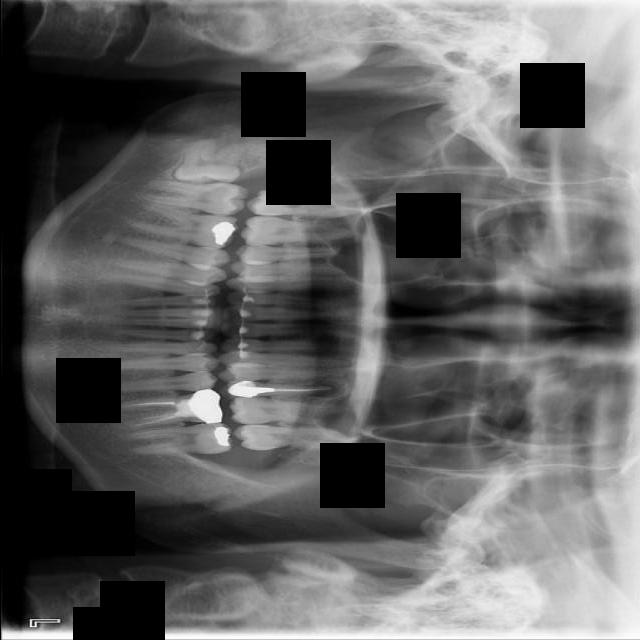52: (188, 212, 240, 252), (182, 419, 233, 459), (176, 388, 222, 426), (217, 377, 269, 401)
73: (114, 395, 186, 430), (263, 379, 331, 397), (56, 617, 60, 621)
BioHorizons Implant: (233, 423, 358, 452)
Blue Sky Bio Implant: (117, 421, 232, 458)
Caries: (245, 188, 372, 220)
Implant: (135, 178, 248, 218)
Keystone Dental Implant: (171, 138, 247, 187)
